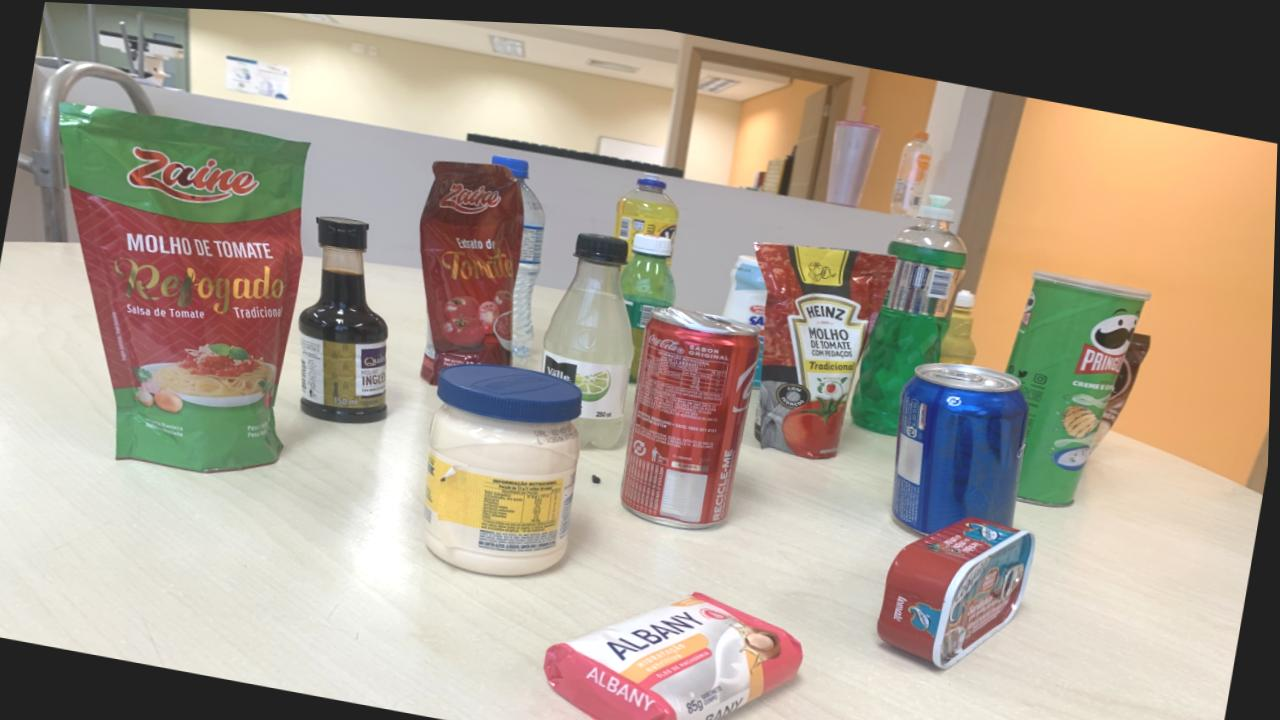Cleaner-Cleanup_Items: (725, 248, 769, 321)
Coffee-Pantry_Items: (1092, 322, 1151, 441)
Coke-Drinks: (623, 300, 762, 522)
Detergent-Cleanup_Items: (852, 185, 968, 427), (614, 169, 680, 241)
English_Sauce-Pantry_Items: (299, 213, 390, 420)
Guarana-Drinks: (621, 226, 678, 376)
Mayonnaise-Pantry_Items: (427, 359, 585, 571)
Mustard-Pantry_Items: (427, 358, 585, 571), (941, 280, 979, 355)
Pringles-Snacks: (1008, 260, 1151, 496)
Soap-Cleanup_Items: (547, 586, 806, 720)
Soda-Drinks: (544, 227, 636, 443)
Tomato_Sauce-Pantry_Items: (59, 101, 311, 470), (756, 235, 897, 451), (420, 156, 526, 378)
Tonic-Drinks: (894, 353, 1030, 525)
Tuna_Can-Pantry_Items: (879, 507, 1038, 659)
Water_Bottle-Drinks: (493, 152, 546, 352)
